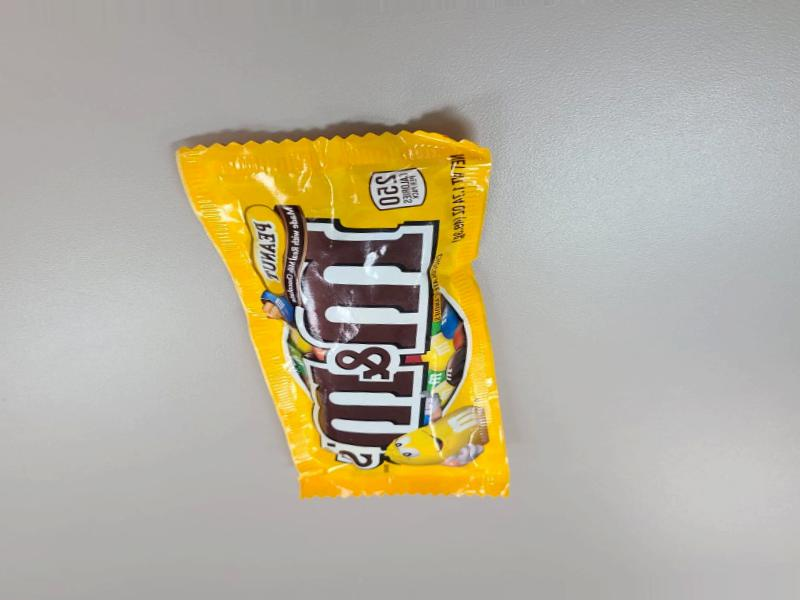m&m: (153, 107, 505, 542)
